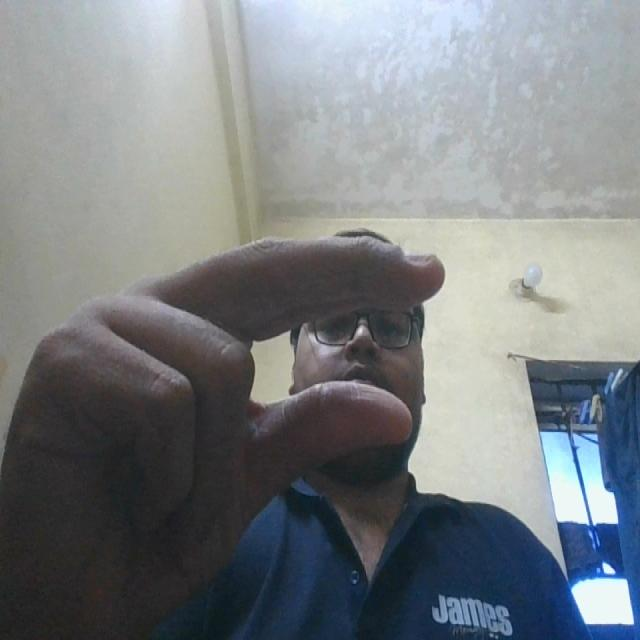No: (21, 208, 458, 640)
